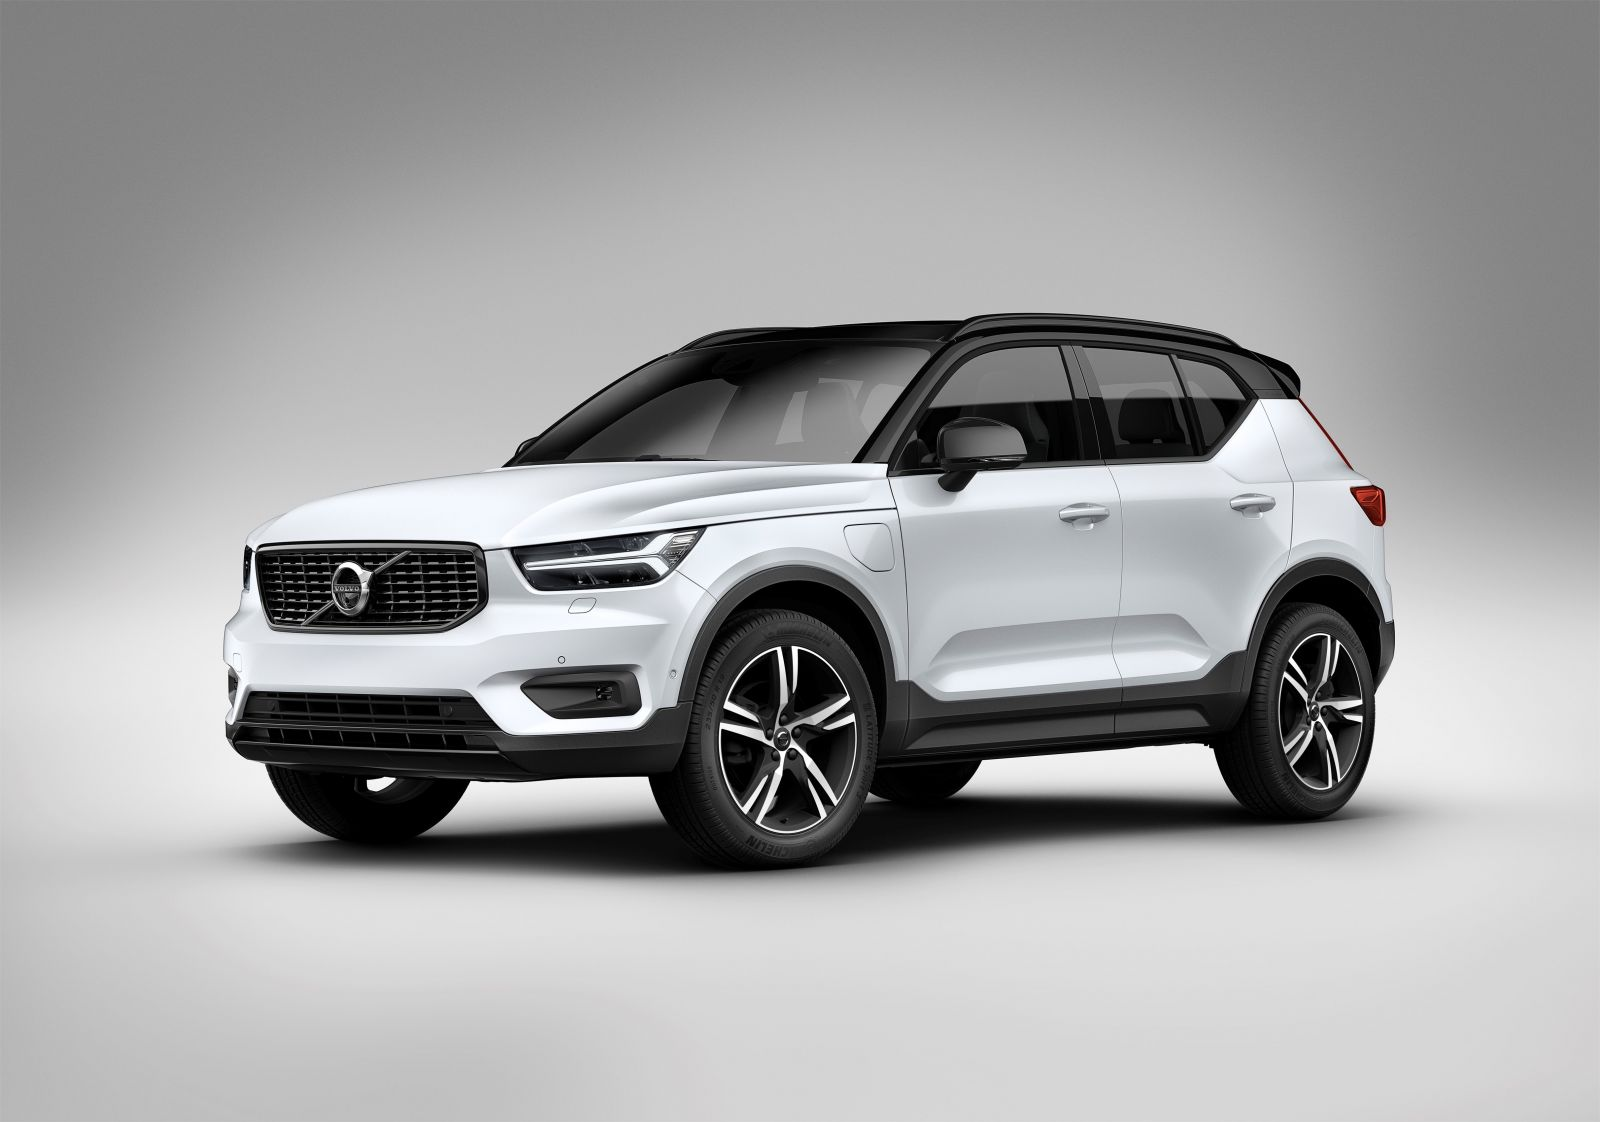pickup: (214, 312, 1395, 872)
